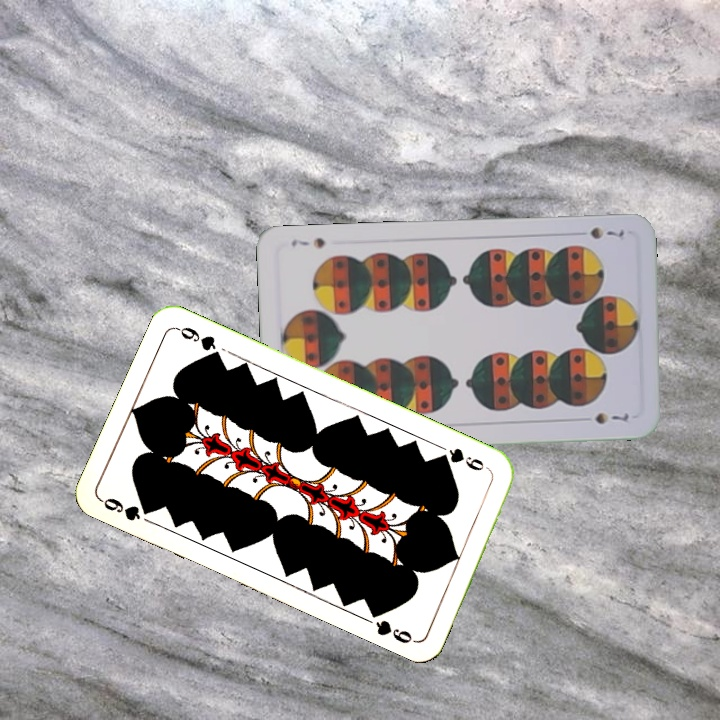G9: (97, 493, 157, 524), (435, 444, 494, 475)
S7: (586, 223, 628, 243)
